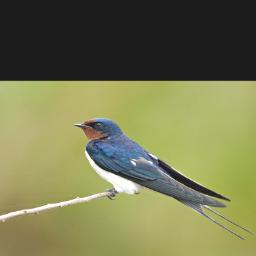Swallow: (72, 118, 255, 241)
